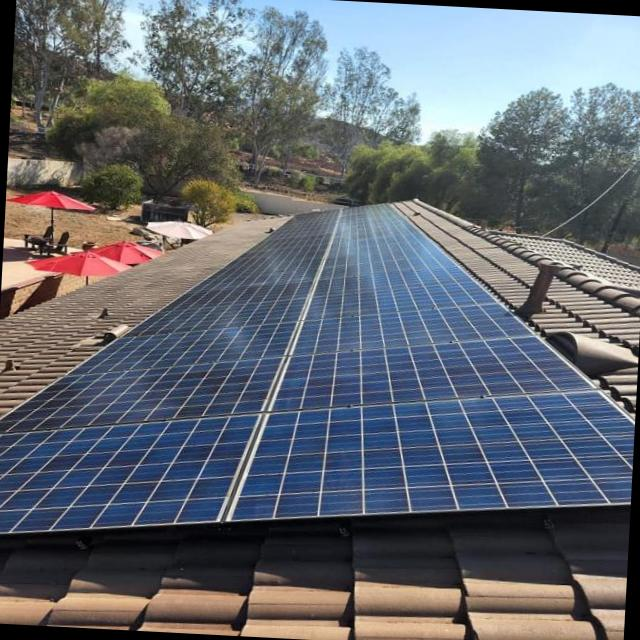no faulty: (233, 390, 635, 519), (0, 418, 257, 530), (274, 337, 590, 408), (0, 360, 280, 432), (69, 321, 297, 375), (293, 304, 530, 352), (305, 282, 498, 320), (129, 299, 306, 332), (315, 268, 472, 293), (249, 210, 339, 252), (333, 205, 422, 245), (320, 254, 457, 279), (166, 284, 312, 307), (325, 238, 438, 264), (222, 249, 323, 273), (199, 270, 315, 288)
